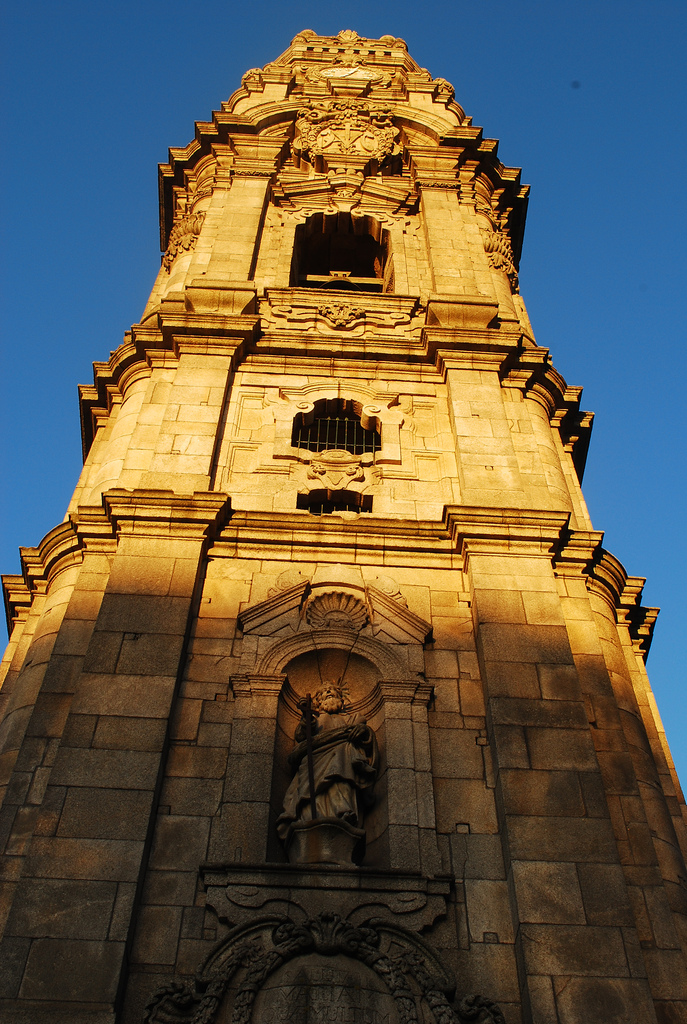clerigos: (0, 27, 686, 1023)
